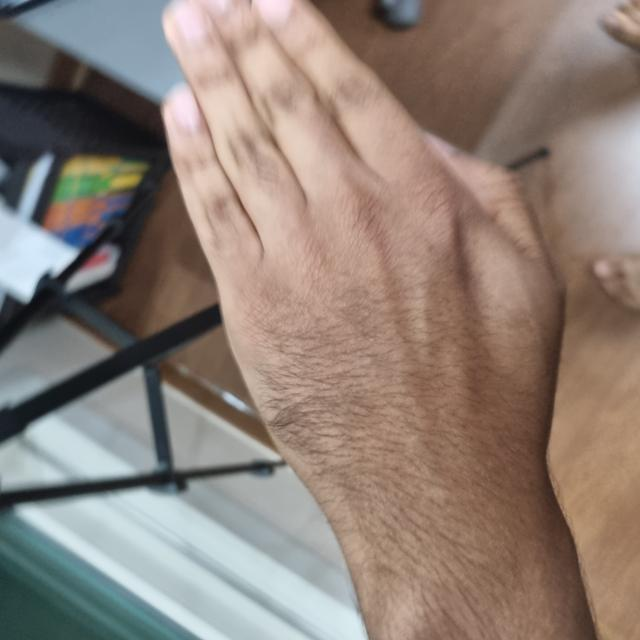Paper: (106, 156, 639, 557)
